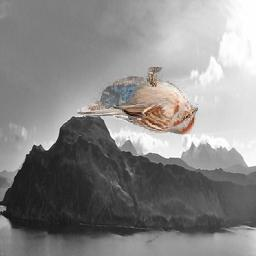Sparrow: (78, 67, 199, 135)
